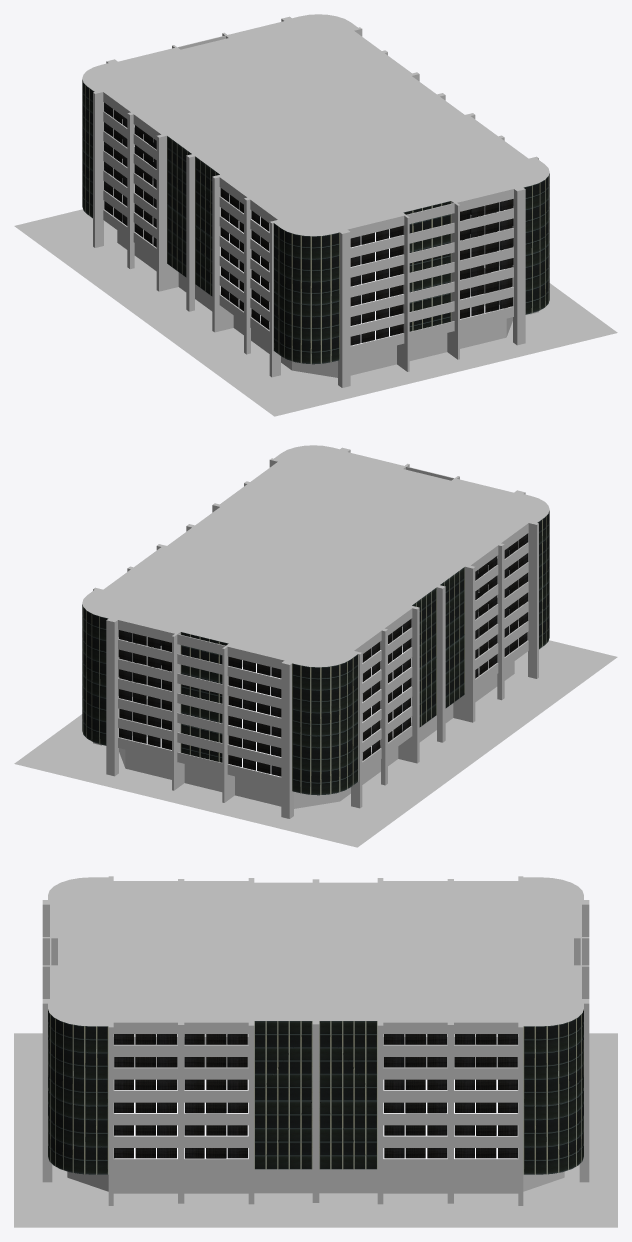
3 renders of one model, top to bottom at view 1: azimuth 30°, elevation 25°; view 2: azimuth 150°, elevation 25°; view 3: azimuth 270°, elevation 25°, orthographic. The views are drawn at different scales.
Visible parts, largest first — view 1: M-012; view 2: M-012; view 3: M-012.
Part boxes in pixels (x1,y1,x2,y2): M-012: (14, 14, 617, 416); M-012: (14, 445, 617, 847); M-012: (14, 876, 617, 1227).
Size of what is drawn, in the model's own units: 54.8 by 23.5 by 72.
